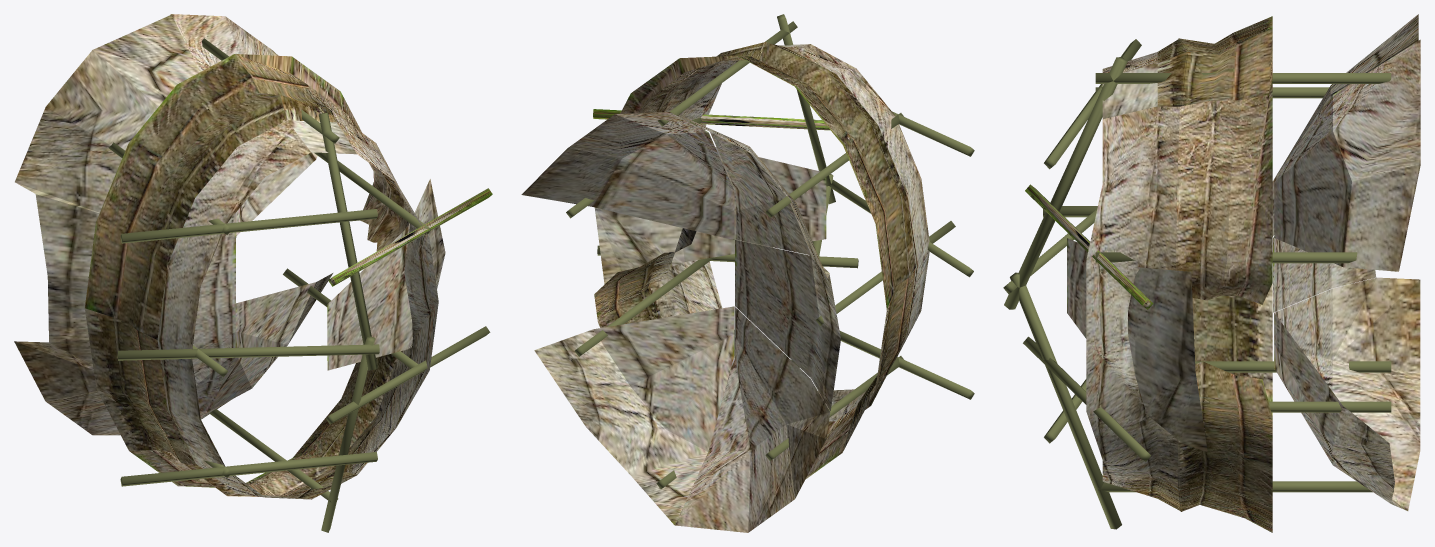
The model's file is hut_000030.obj.
The picture shows the model from 3 angles, left to right: view 1: azimuth 30°, elevation 25°; view 2: azimuth 150°, elevation 25°; view 3: azimuth 270°, elevation 25°; orthographic projection. The views are drawn at different scales.
Visible parts, largest first — view 1: Sphere.003, Sphere.002, Sphere.004, Sphere.001, Sphere.007, Sphere.008, Sphere.005, Sphere, Sphere.006, Cylinder.008_Cylinder.010, Cylinder.013_Cylinder.014, Cylinder.012_Cylinder.013 (+8 smaller); view 2: Sphere, Sphere.008, Sphere.006, Sphere.003, Sphere.001, Sphere.007, Sphere.002, Sphere.005, Sphere.004, Cylinder.010_Cylinder.011, Cylinder.003, Cylinder.012_Cylinder.013 (+8 smaller); view 3: Sphere.003, Sphere.001, Sphere.006, Sphere.002, Sphere.008, Sphere.005, Sphere, Sphere.007, Cylinder.007, Cylinder.009, Sphere.004, Cylinder.001 (+10 smaller).
Boxes of the visible parts, left/top/right/bottom form: Sphere.003: left=137, top=95, right=438, bottom=499; Sphere.002: left=84, top=54, right=386, bottom=487; Sphere.004: left=15, top=15, right=236, bottom=237; Sphere.001: left=116, top=78, right=403, bottom=496; Sphere.007: left=35, top=194, right=235, bottom=342; Sphere.008: left=14, top=304, right=235, bottom=435; Sphere.005: left=327, top=179, right=445, bottom=370; Sphere: left=200, top=273, right=332, bottom=419; Sphere.006: left=170, top=14, right=317, bottom=235; Cylinder.008_Cylinder.010: left=117, top=344, right=379, bottom=360; Cylinder.013_Cylinder.014: left=120, top=209, right=377, bottom=243; Cylinder.012_Cylinder.013: left=120, top=452, right=377, bottom=486; Sphere: left=534, top=306, right=734, bottom=525; Sphere.008: left=675, top=307, right=830, bottom=532; Sphere.006: left=521, top=112, right=734, bottom=239; Sphere.003: left=650, top=43, right=929, bottom=434; Sphere.001: left=621, top=42, right=908, bottom=447; Sphere.007: left=735, top=240, right=840, bottom=410; Sphere.002: left=594, top=55, right=894, bottom=479; Sphere.005: left=594, top=147, right=826, bottom=284; Sphere.004: left=673, top=112, right=829, bottom=278; Cylinder.010_Cylinder.011: left=593, top=109, right=829, bottom=130; Cylinder.003: left=574, top=257, right=712, bottom=356; Cylinder.012_Cylinder.013: left=839, top=331, right=974, bottom=399; Sphere.003: left=1086, top=38, right=1188, bottom=511; Sphere.001: left=1176, top=33, right=1244, bottom=518; Sphere.006: left=1274, top=39, right=1420, bottom=271; Sphere.002: left=1221, top=16, right=1272, bottom=532; Sphere.008: left=1274, top=277, right=1420, bottom=510; Sphere.005: left=1067, top=238, right=1207, bottom=452; Sphere: left=1274, top=313, right=1407, bottom=510; Sphere.007: left=1273, top=236, right=1376, bottom=312; Cylinder.007: left=1010, top=272, right=1121, bottom=529; Cylinder.009: left=1004, top=57, right=1127, bottom=309; Sphere.004: left=1272, top=14, right=1418, bottom=236; Cylinder.001: left=1095, top=73, right=1391, bottom=83.
Size of the model in its own units: 4.43 by 4.88 by 3.77.
